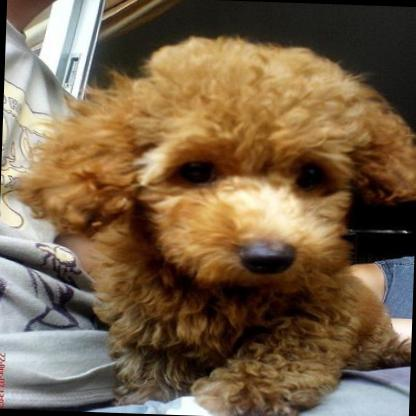toy_poodle: (20, 24, 416, 416)
